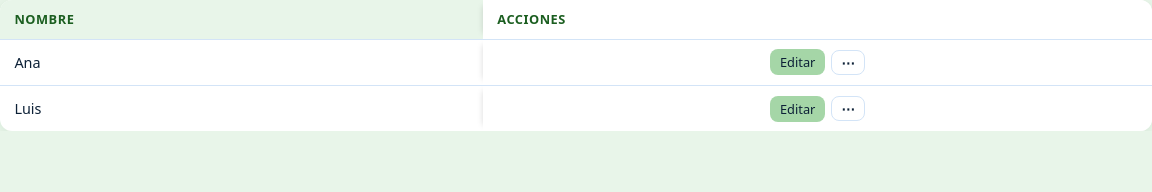
it: FormModal backdrop close › translates the shared Table chrome (Actions header, Edit/Delete buttons, empty state)
Check: the column heading "Acciones" is shown, box [483,0,1151,39]
Check: the button with aria-label "Editar Ana" is shown, box [770,49,825,75]
Click the button named "Más Ana": (848, 62) [831,50,865,75]
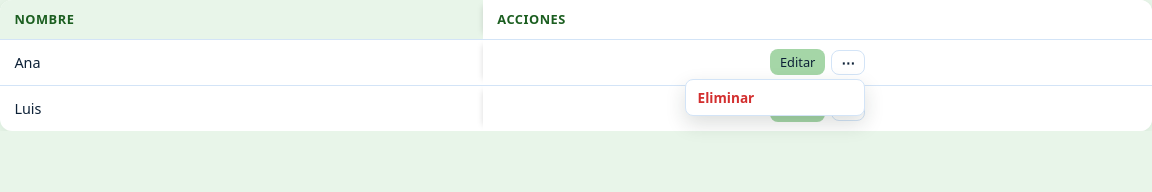
Check: the menu item "Eliminar" is shown, box [686,80,864,115]
Press the mouse on the element showing "Nombre Acciones Ana Editar ⋯ Luis Editar ⋯ Eliminar": (576, 66) [0,0,1151,131]
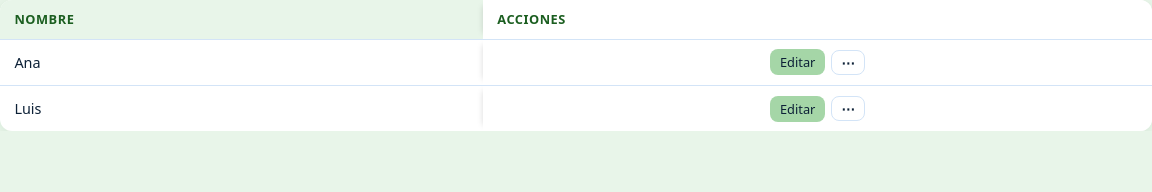
Click the button named "Más Luis": (848, 109) [831,96,865,121]
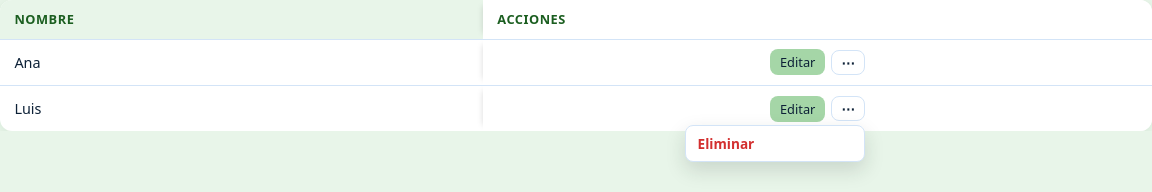
Check: the menu item "Eliminar" is shown, box [686,126,864,161]
